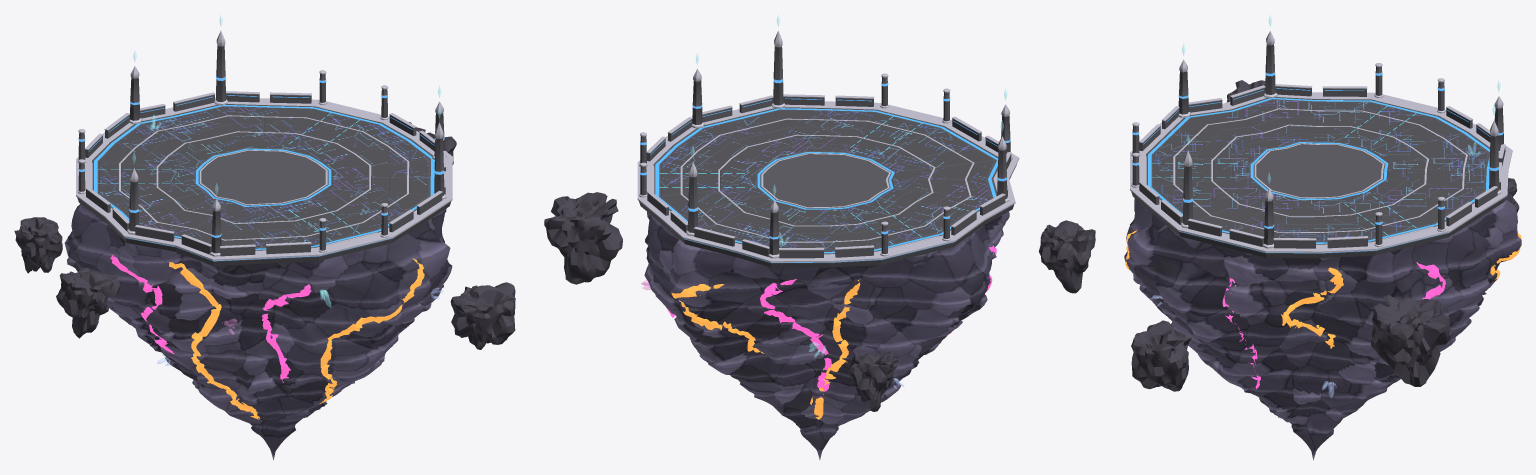
The model's file is Island_Central_quest.glb.
3 views of the same model, side by side, from view 1: azimuth 30°, elevation 25°; view 2: azimuth 150°, elevation 25°; view 3: azimuth 270°, elevation 25° (orthographic).
Visible parts, largest first — view 1: Island_Central_Deck, Island_Central_Rock, Island_Central_Architecture, Island_Central, Island_Central_Veins; view 2: Island_Central_Deck, Island_Central_Rock, Island_Central_Architecture, Island_Central, Island_Central_Veins; view 3: Island_Central_Deck, Island_Central_Rock, Island_Central_Architecture, Island_Central, Island_Central_Veins.
Part boxes in pixels (bbox=[...]): Island_Central_Deck: bbox=[76, 97, 452, 265]; Island_Central_Rock: bbox=[64, 170, 452, 460]; Island_Central_Architecture: bbox=[77, 15, 446, 256]; Island_Central: bbox=[14, 115, 515, 365]; Island_Central_Veins: bbox=[110, 254, 424, 419]; Island_Central_Deck: bbox=[637, 101, 1019, 267]; Island_Central_Rock: bbox=[644, 152, 1009, 460]; Island_Central_Architecture: bbox=[639, 15, 1012, 258]; Island_Central: bbox=[544, 192, 1095, 411]; Island_Central_Veins: bbox=[665, 245, 996, 419]; Island_Central_Deck: bbox=[1130, 92, 1512, 257]; Island_Central_Rock: bbox=[1124, 110, 1521, 460]; Island_Central_Architecture: bbox=[1131, 15, 1506, 248]; Island_Central: bbox=[1131, 80, 1519, 398]; Island_Central_Veins: bbox=[1125, 230, 1521, 389].
Size of the model in its own units: 50.54 by 38.87 by 36.96.
Materials: 12 (1 with a texture image).
